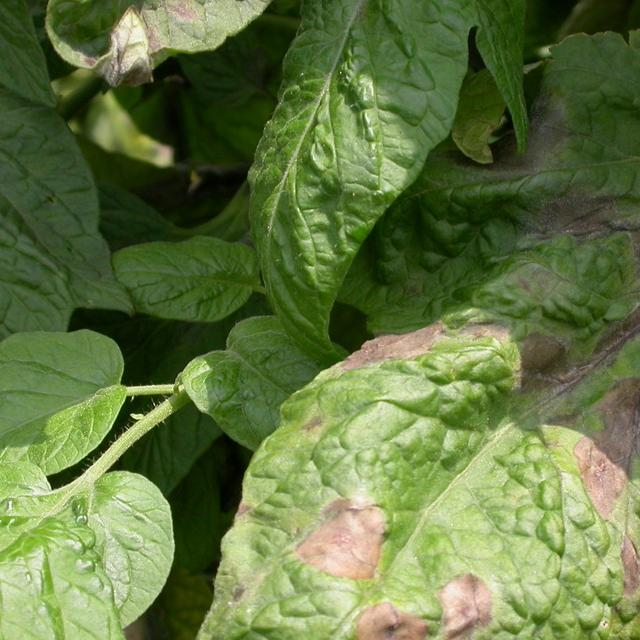Tomato leaf late blight: (189, 142, 640, 640), (0, 72, 115, 390)
